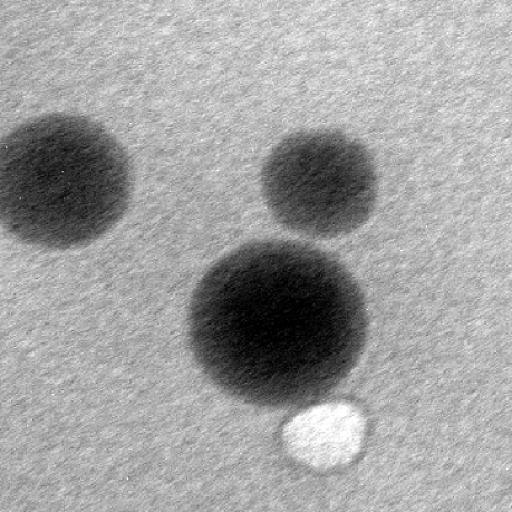Nanoparticles: (186, 236, 390, 404), (0, 107, 140, 264), (259, 126, 390, 242)
